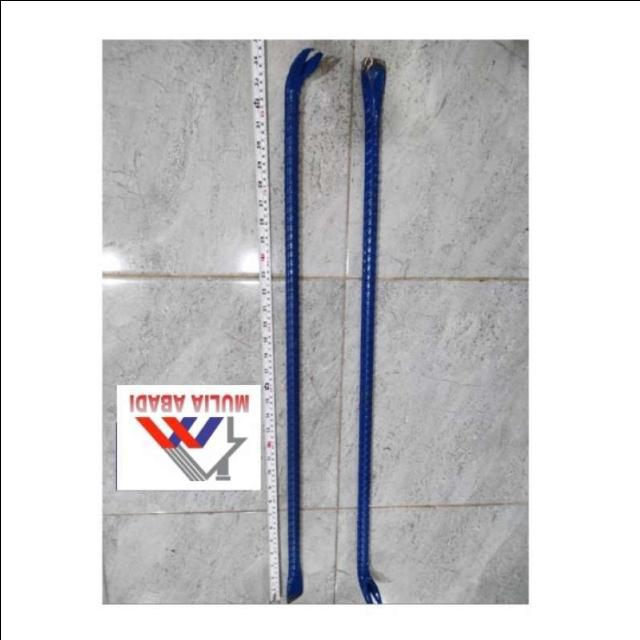Linggis: (352, 61, 382, 603)
